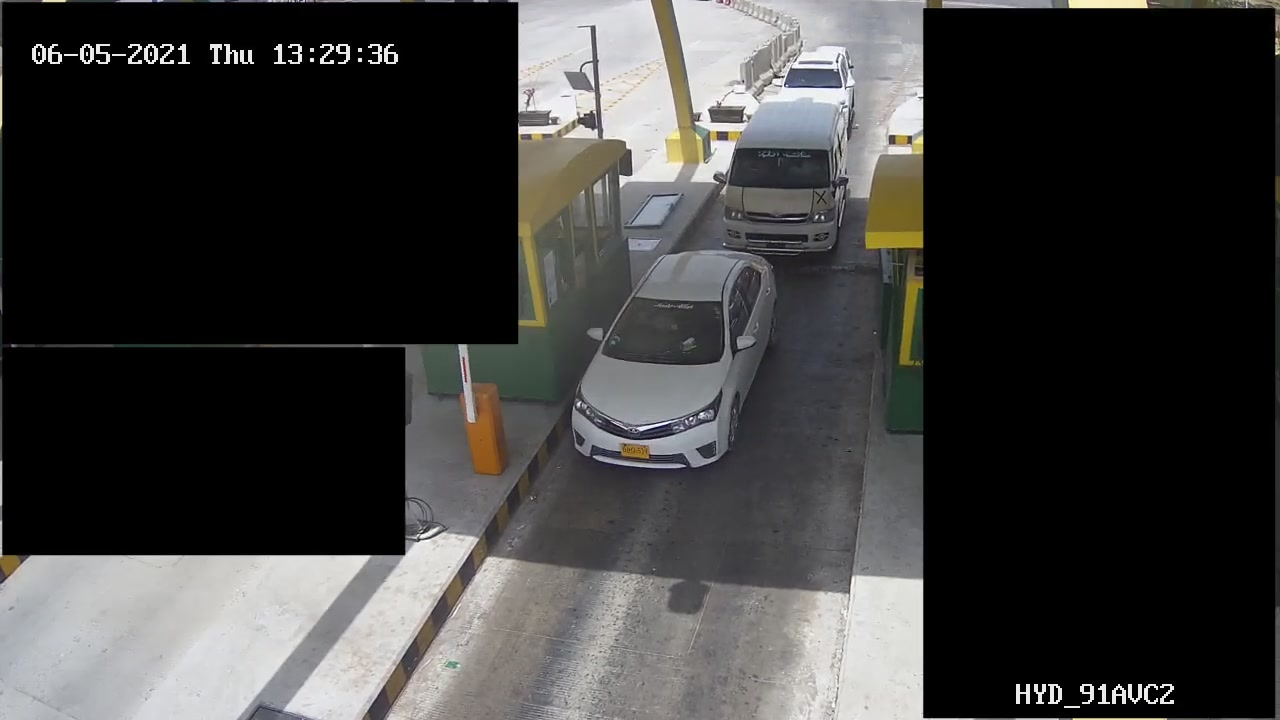F1: (553, 239, 781, 467)
F2: (718, 102, 853, 256)
